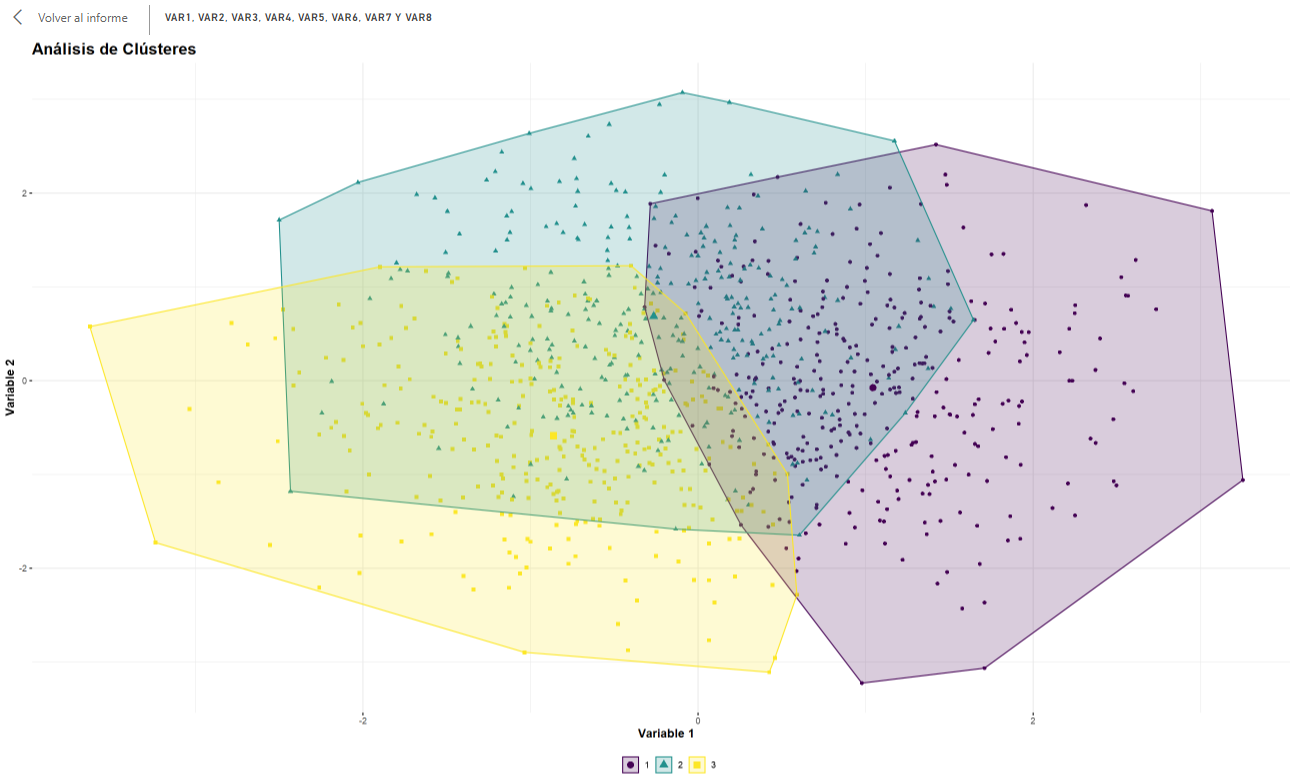

The page's visual inventory and layout, read from the dashboard file:
{"tool":"powerbi","page":{"name":"Clusters","canvas":[1280,720],"ordinal":2},"visuals":[{"type":"scriptVisual","fields":{"Values":["Dataset_23.var1","Dataset_23.var2","Dataset_23.var3","Dataset_23.var4","Dataset_23.var5","Dataset_23.var6","Dataset_23.var7","Dataset_23.var8"]},"box":[0,0,1280,720],"z":0}]}

Visuals, with their boxes on the page's 1280x720 design canvas (x1, y1, x2, y2). These are canvas units, not pixel positions in the 1290x784 screenshot, which may show the page scaled, cropped or inside an application window:
scriptVisual - Dataset_23.var1 x Dataset_23.var2: (0, 0, 1280, 720)
